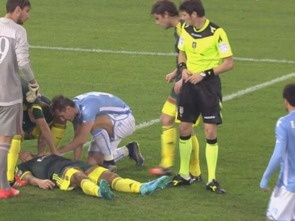falling: (10, 142, 183, 200)
